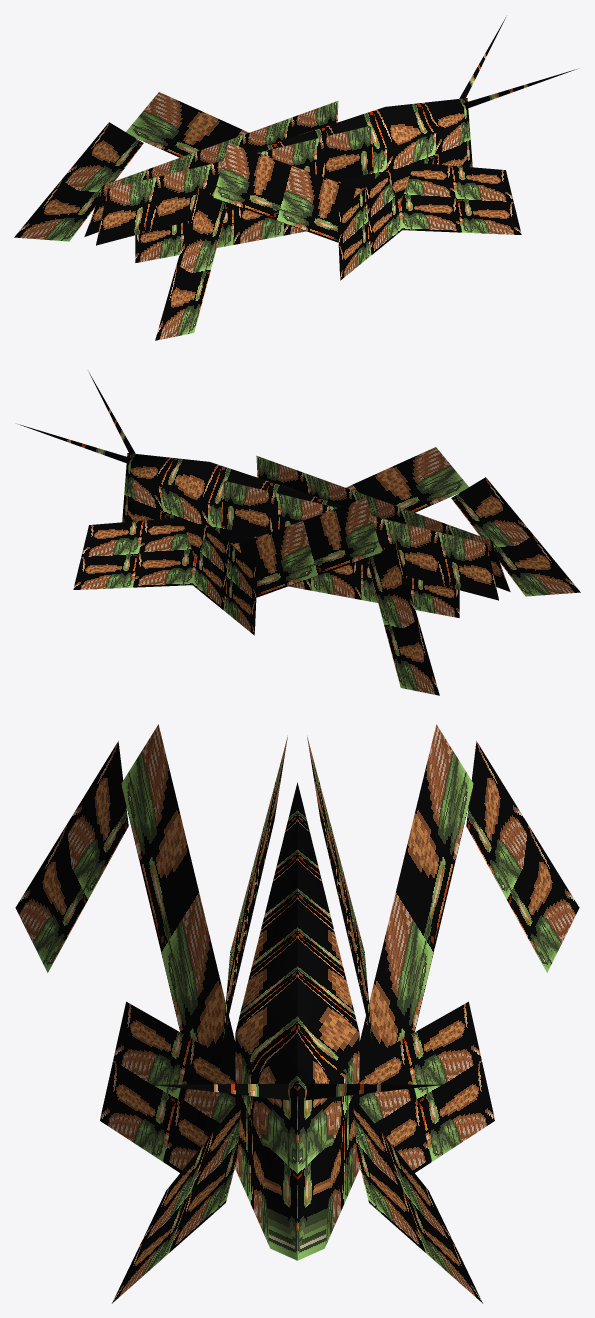
File: 5017musi27_e.gltf
3 renders of one model, top to bottom at view 1: azimuth 30°, elevation 25°; view 2: azimuth 150°, elevation 25°; view 3: azimuth 270°, elevation 25°, orthographic. The views are drawn at different scales.
Parts seen in each view (by area): view 1: 5017musi27_e; view 2: 5017musi27_e; view 3: 5017musi27_e.
Boxes of the visible parts, x1,y1,x2,y2 form: 5017musi27_e: [14, 17, 576, 340]; 5017musi27_e: [18, 372, 580, 695]; 5017musi27_e: [15, 724, 579, 1303].
Size of the model in its own units: 0.3042 by 0.0979 by 0.1616.
1 material, 1 textured.
